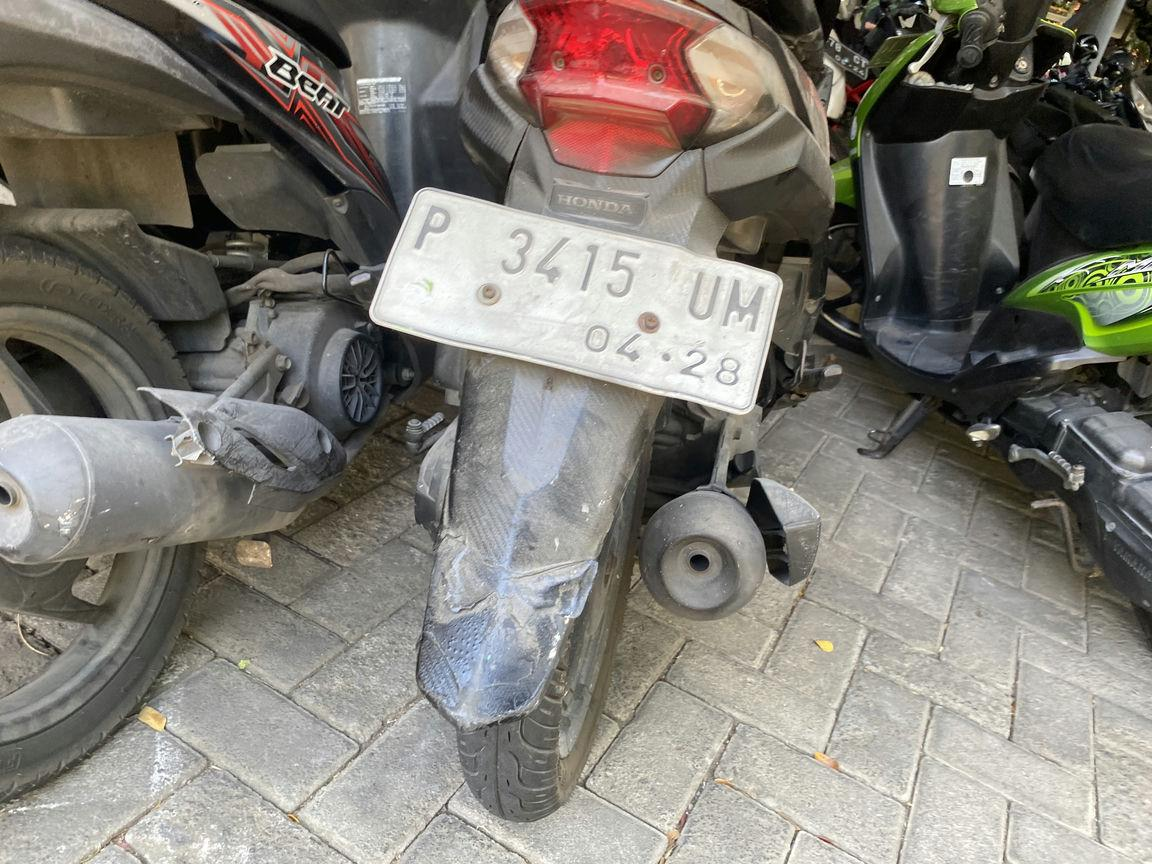plat: (371, 189, 783, 414)
